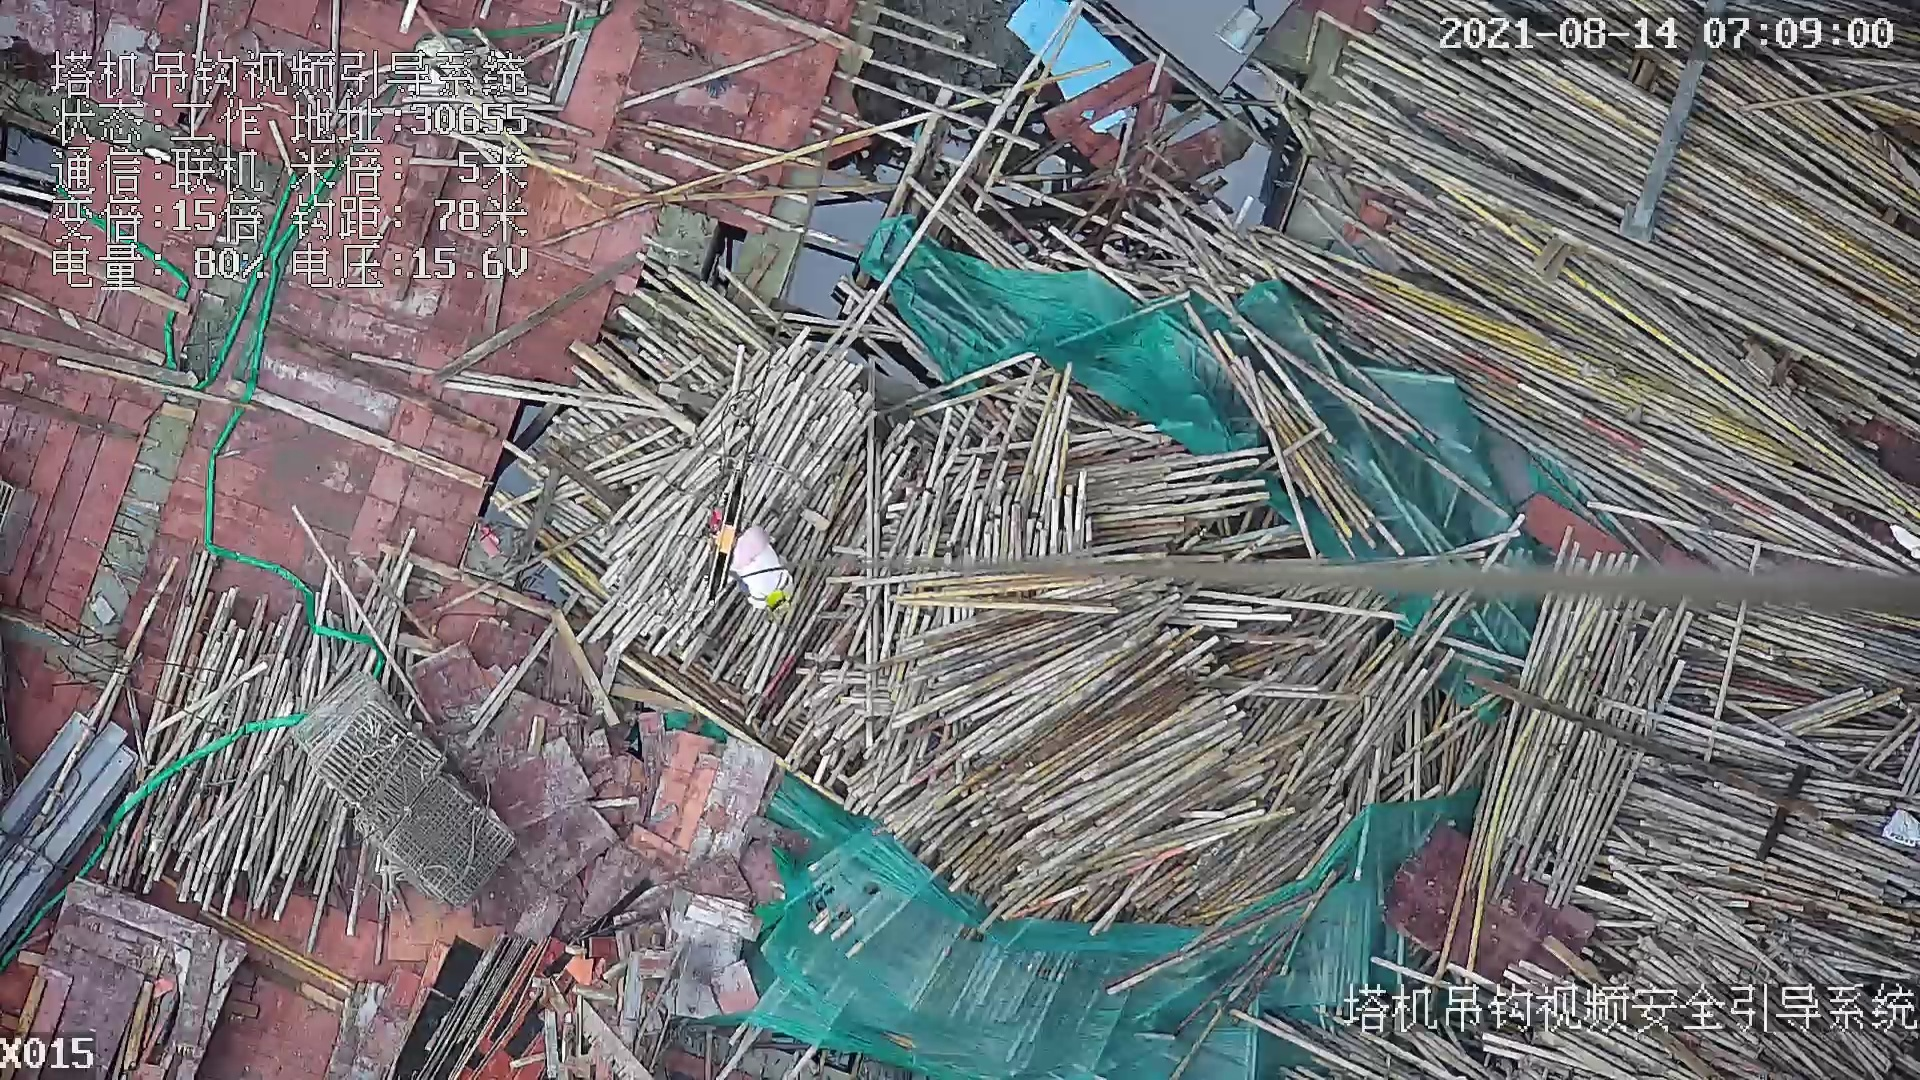hook: (704, 464, 749, 609)
person: (724, 512, 796, 609)
